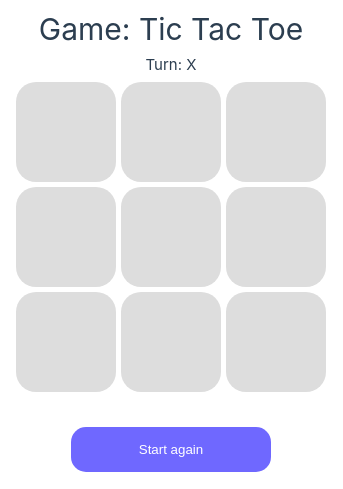
Test case: TicTacToe › makes a move when a cell is clicked
Click the 1st element with class "cell" at (66, 132), box [16,82,116,182]
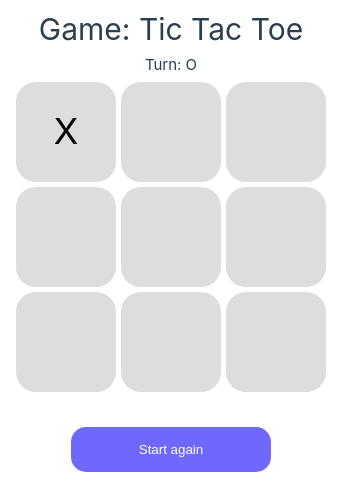
Now the text with class "cell" reads "X", box [54,109,78,153]
